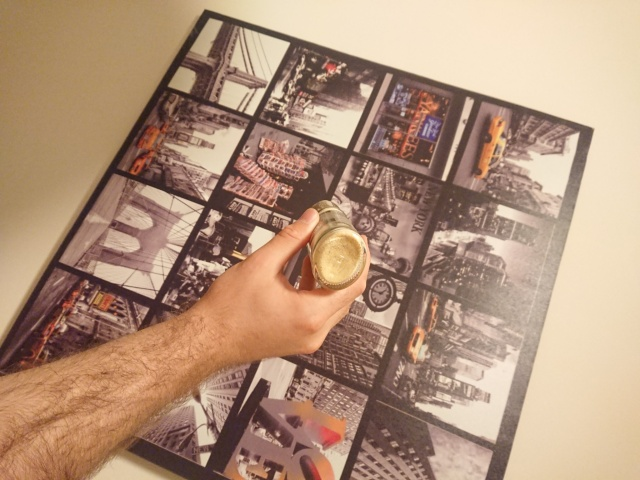Kotanyi Garlic Granules 70g: (303, 198, 369, 292)
